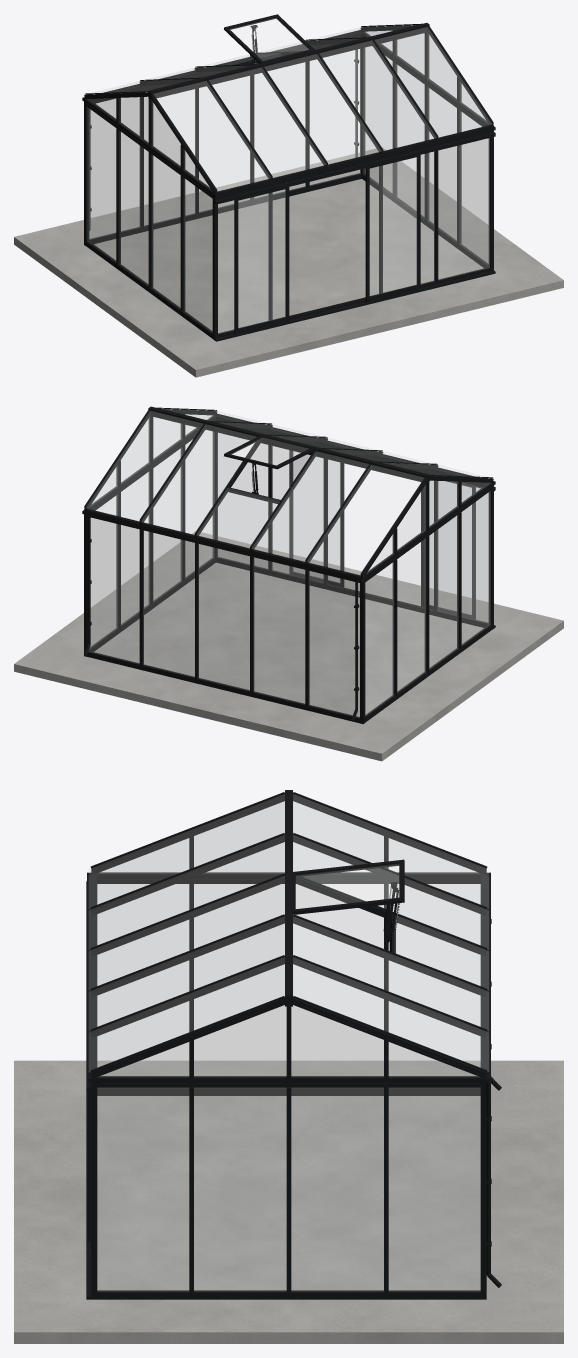
The model's file is sg-rect-10-2-12-7.glb.
The picture shows the model from 3 angles, top to bottom: view 1: azimuth 30°, elevation 25°; view 2: azimuth 150°, elevation 25°; view 3: azimuth 270°, elevation 25°; orthographic projection. The views are drawn at different scales.
Visible parts, largest first — view 1: scandiglas-rect-10-2-12-7; view 2: scandiglas-rect-10-2-12-7; view 3: scandiglas-rect-10-2-12-7.
Part boxes in pixels (x1=…): scandiglas-rect-10-2-12-7: x1=14, y1=14, x2=563, y2=377; scandiglas-rect-10-2-12-7: x1=14, y1=406, x2=563, y2=761; scandiglas-rect-10-2-12-7: x1=14, y1=790, x2=563, y2=1343.
Bounding box in the file's own units: 5.11 × 2.89 × 4.38.
5 materials, 1 textured.
